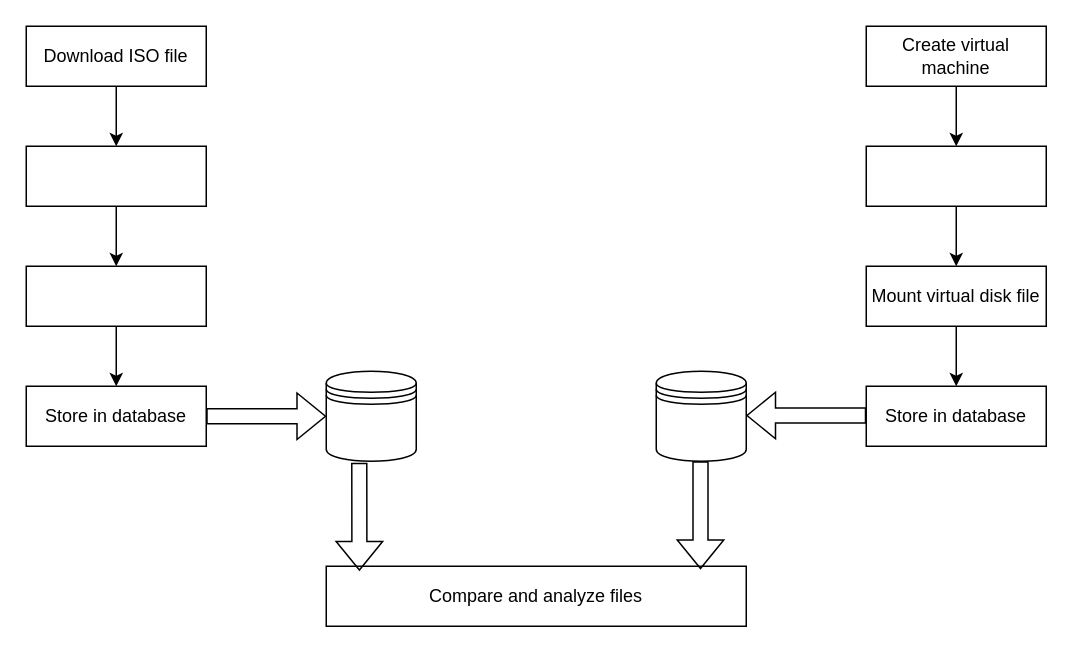
Image size: 1073x653. Some labels were removed from this diagram. The shapes that lost their labels are listed below. From the top down, each one's centre as x and y in pixels, then its label:
(x=115, y=175): Extract ISO file
(x=955, y=175): Install operating system
(x=115, y=295): Enumerate and calculate ISO file hashes
